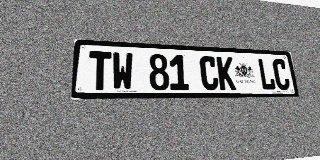1: (168, 54, 189, 90)
8: (149, 53, 170, 90)
C: (199, 56, 219, 90), (272, 59, 291, 90)
K: (216, 56, 236, 90)
L: (257, 58, 276, 90)
T: (88, 51, 111, 90)
W: (112, 52, 133, 90)
